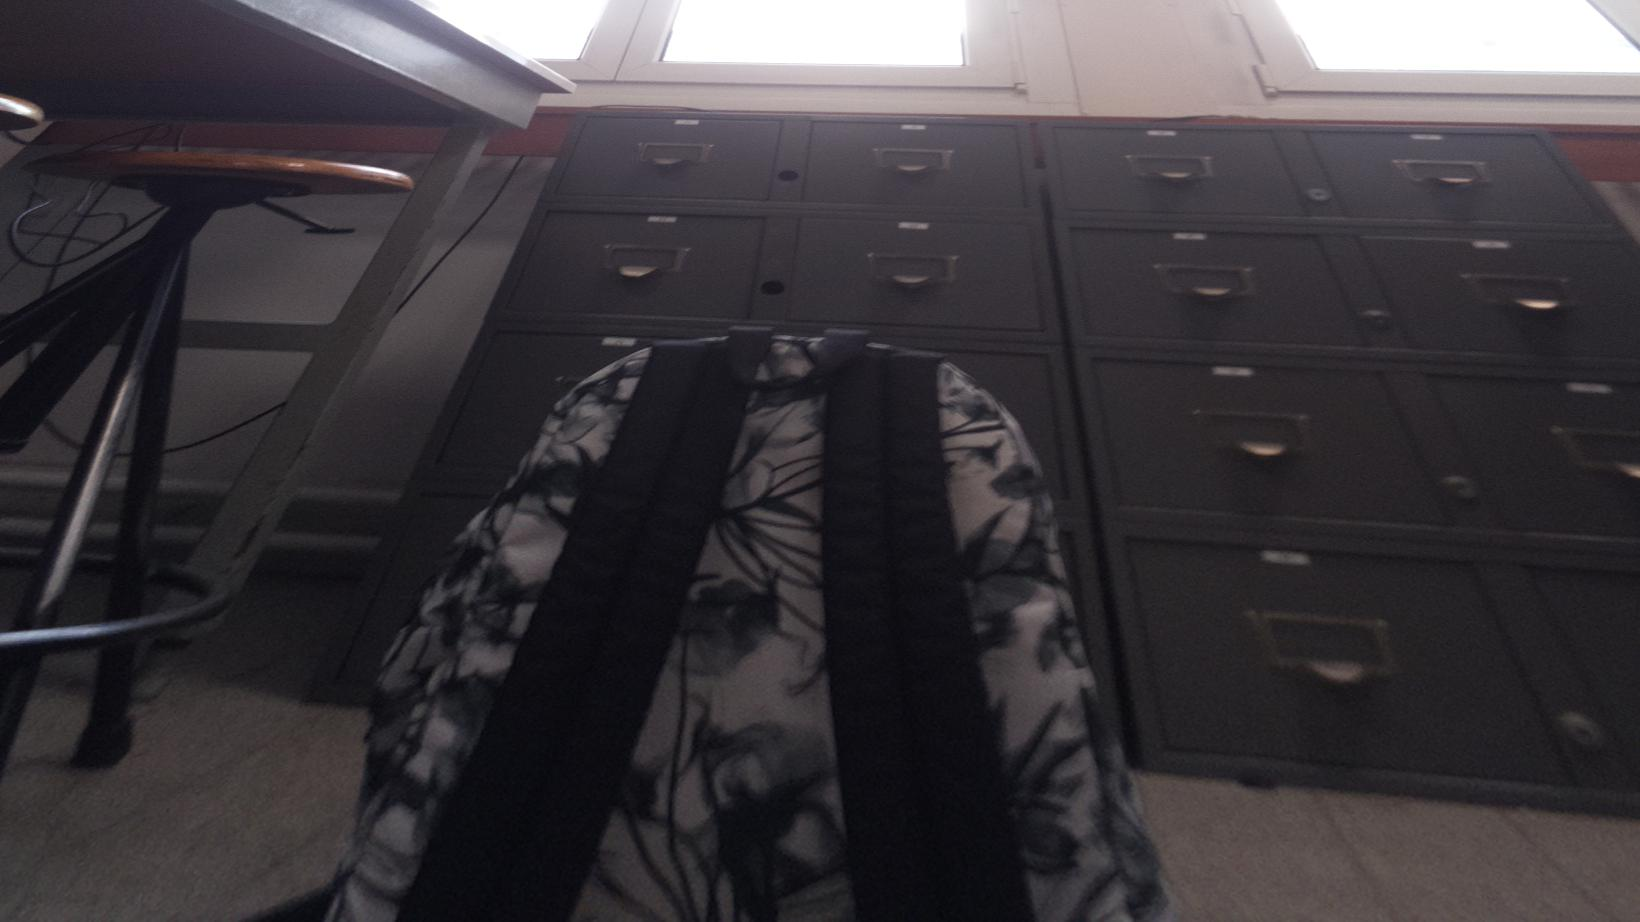big: (335, 320, 1180, 922)
